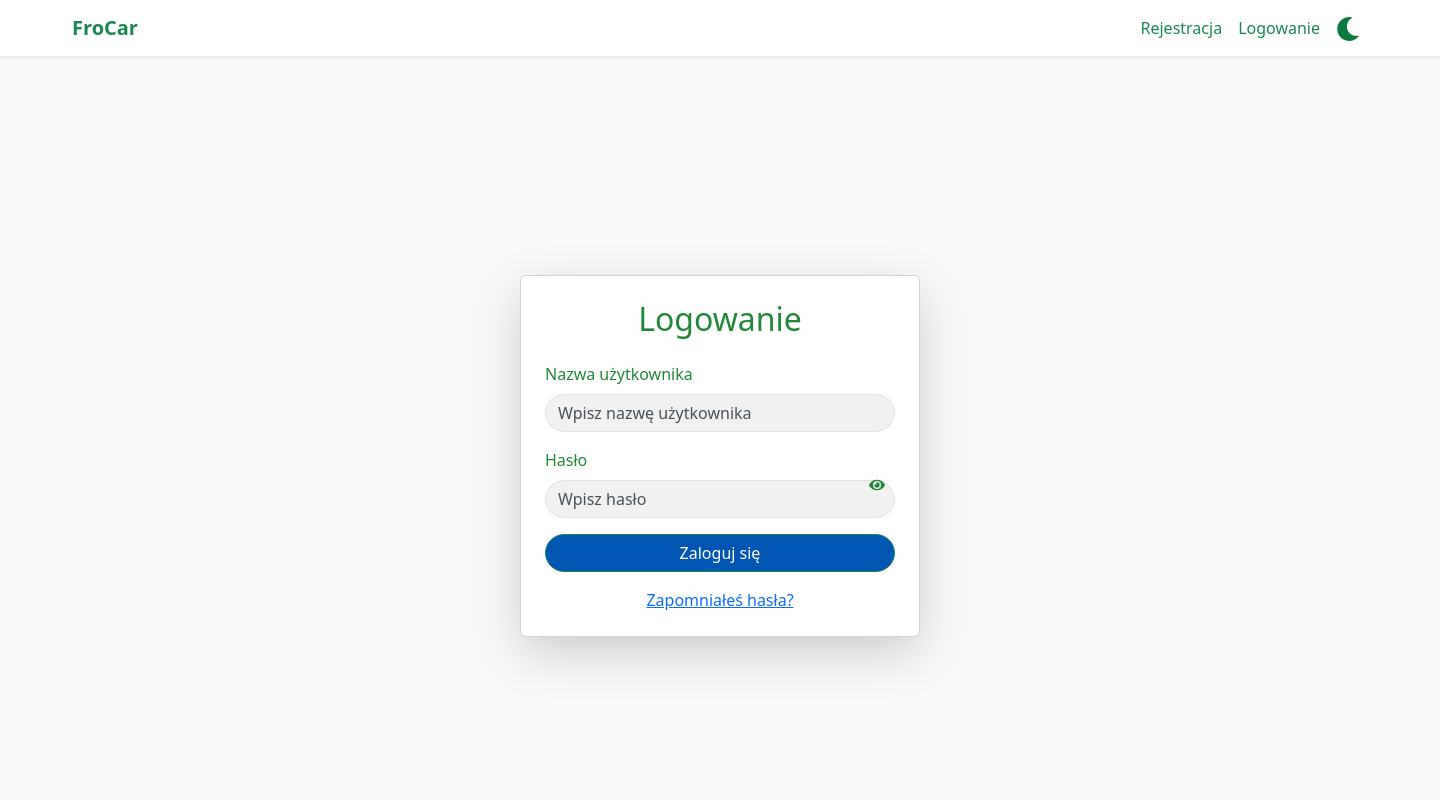
Test: LoginPage › powinien wyświetlać specjalny błąd dla zablokowanego konta
In the field named "username": {"x": 720, "y": 413} [545, 394, 895, 432], type "lockedUser"
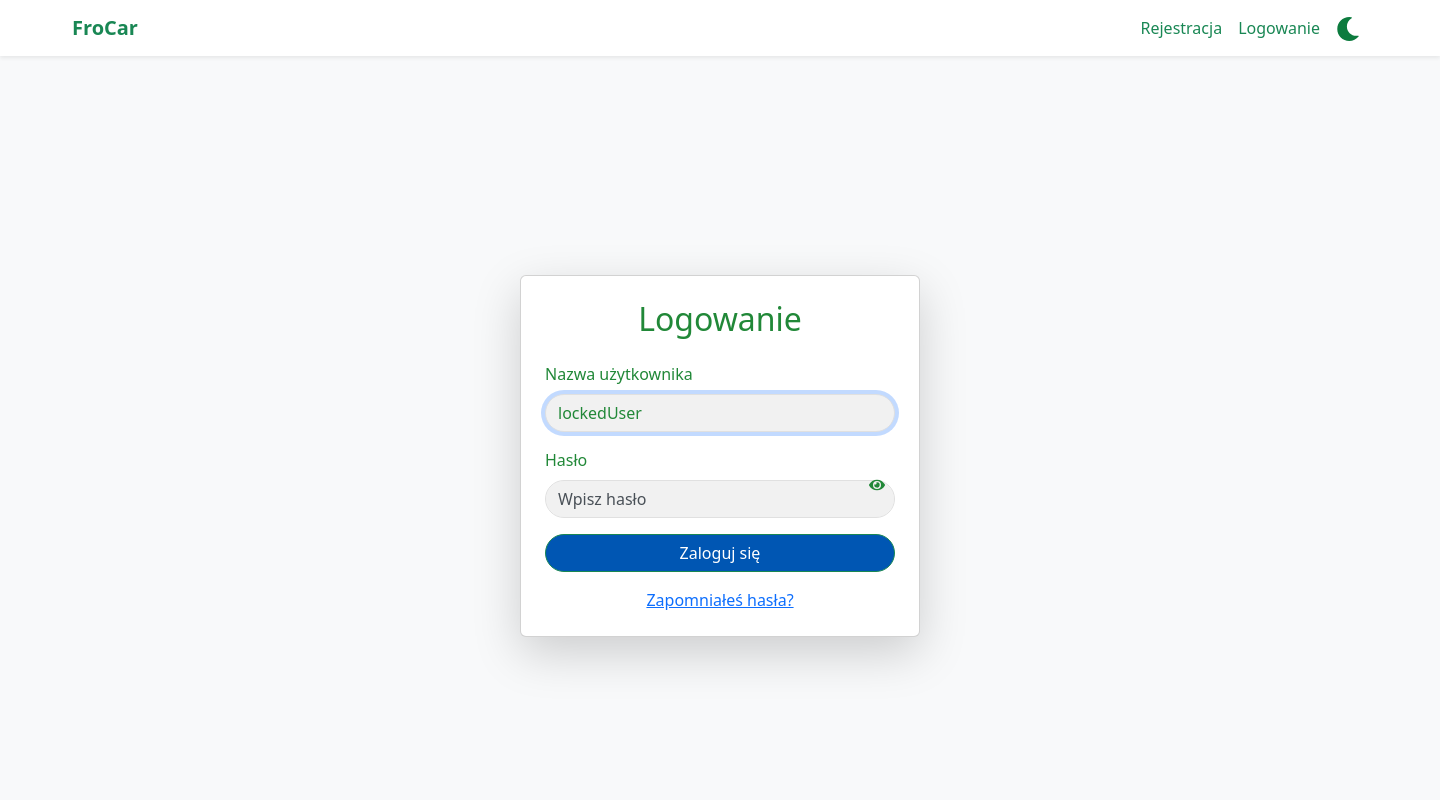
In the password field named "password": {"x": 720, "y": 499} [545, 480, 895, 518], type "anyPass"
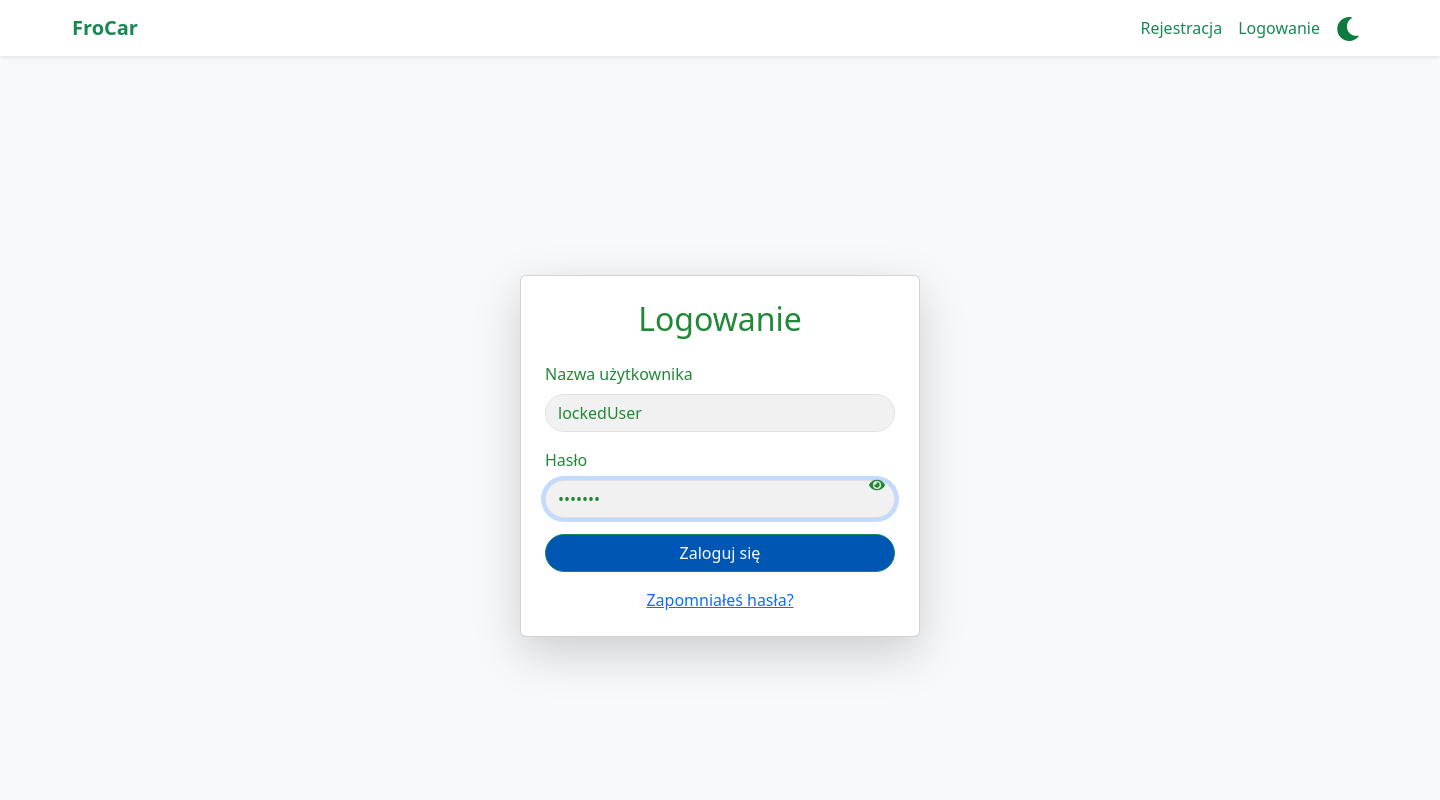
Click the submit button: {"x": 720, "y": 553} [545, 534, 895, 572]
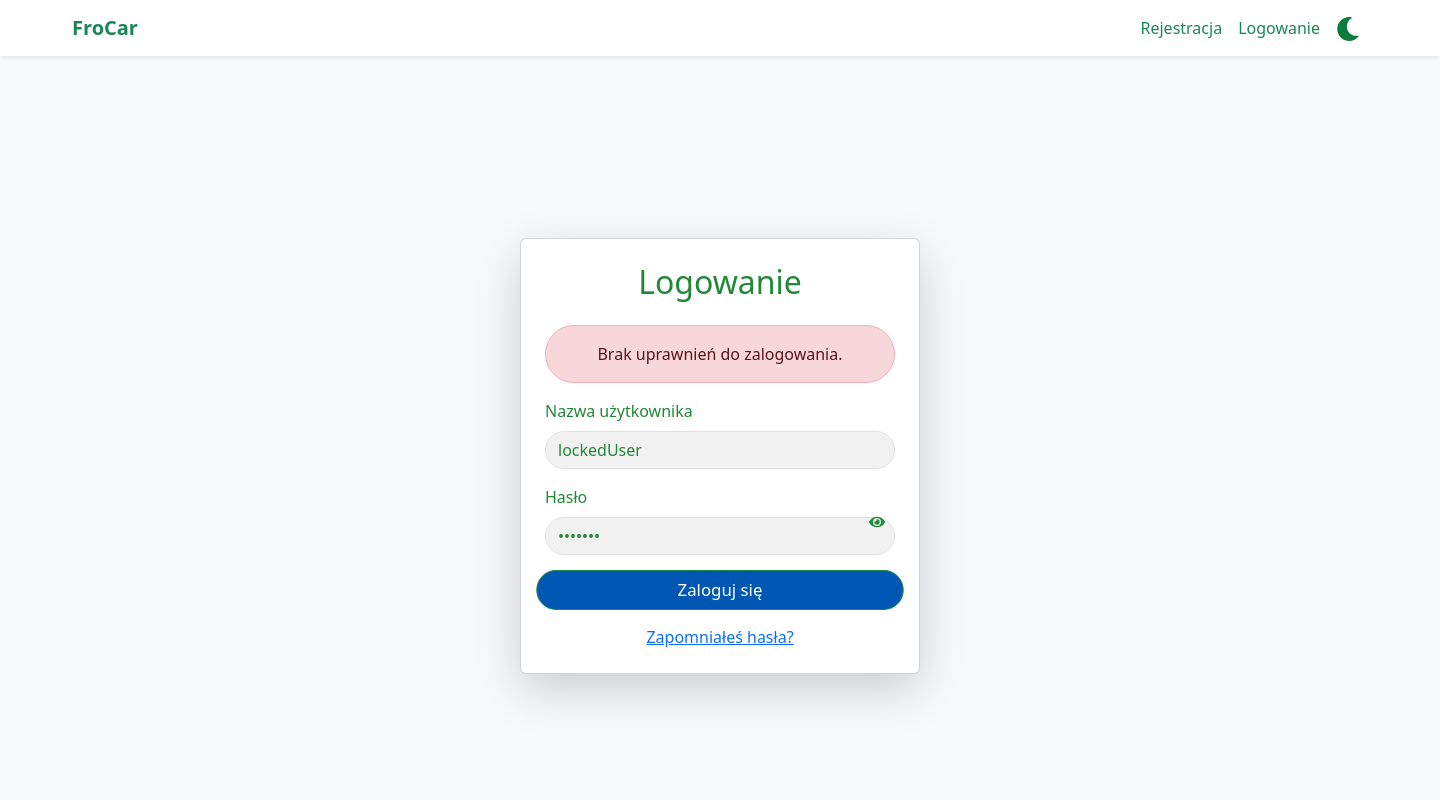
Now the text with class "alert" reads "Brak uprawnień do zalogowania.", box [597, 343, 842, 365]
